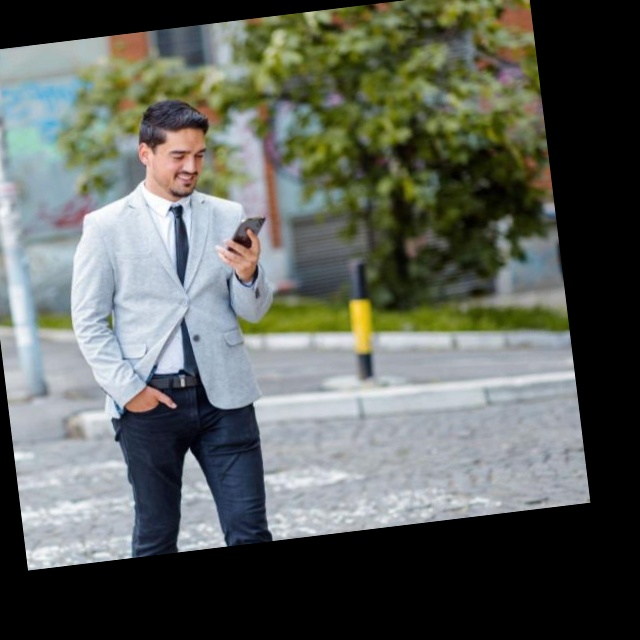Sin_Casco_Mascarrilla: (131, 95, 216, 200)
Sin_Chaleco: (69, 186, 265, 398)
